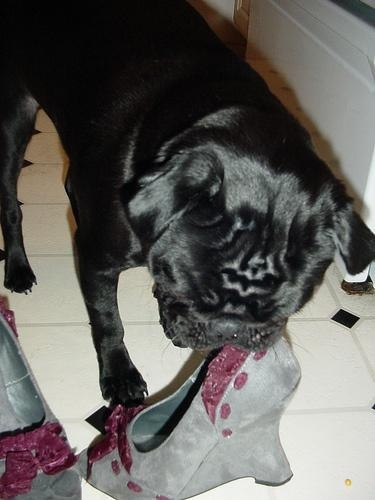dog: (1, 1, 373, 411)
